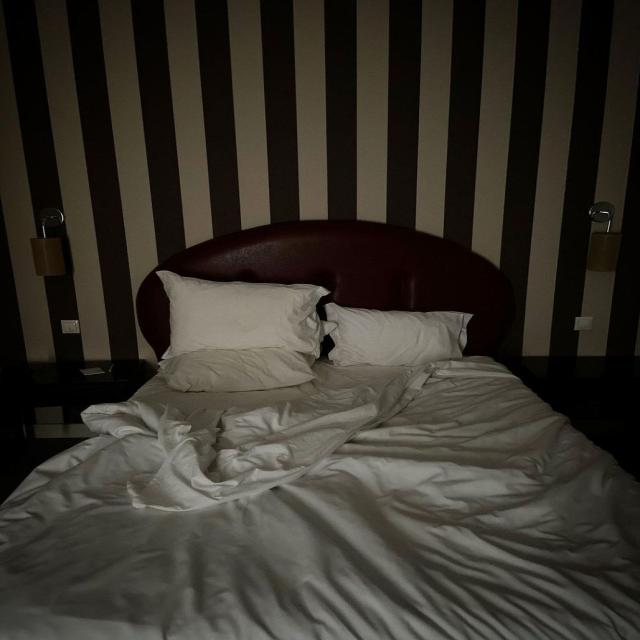bed: (56, 253, 562, 640)
